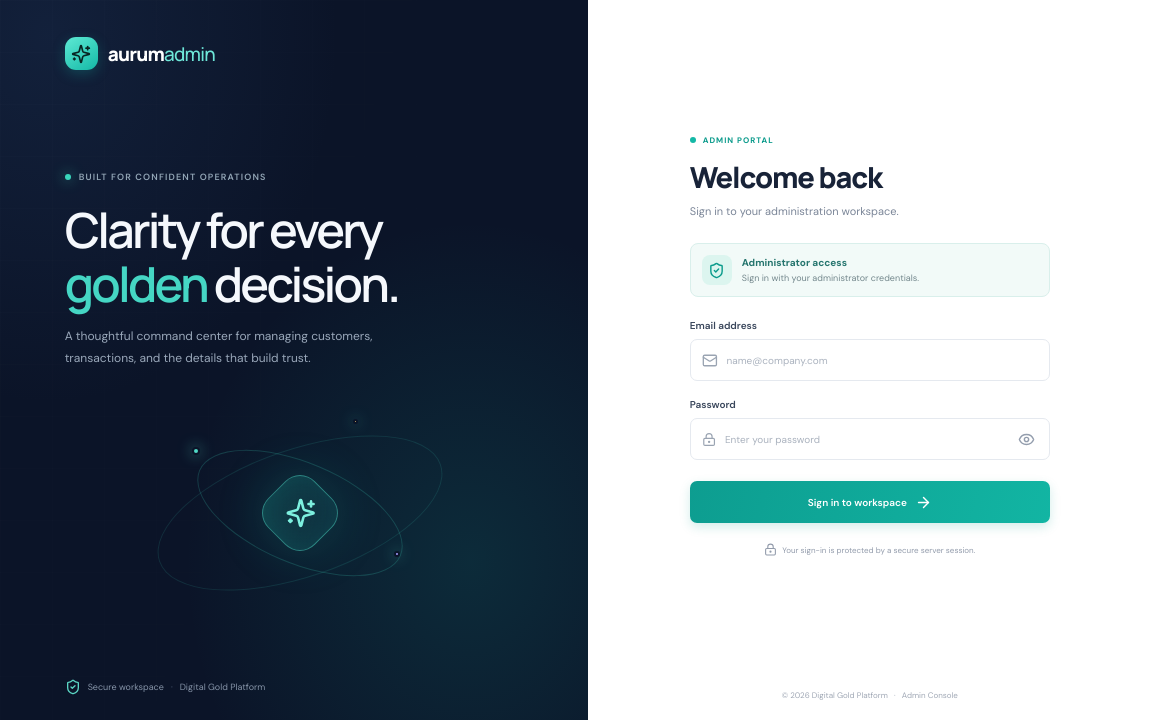
admin authentication flow › rejects passwords that do not meet the requirements before submitting
Expected: the heading "Welcome back" is shown, 690,157 -> 882,197
Type "admin@digitalgold.demo" into the field labelled "Email address".
click(882, 360); type("admin@digitalgold.demo")  # box 726,340 -> 1038,380
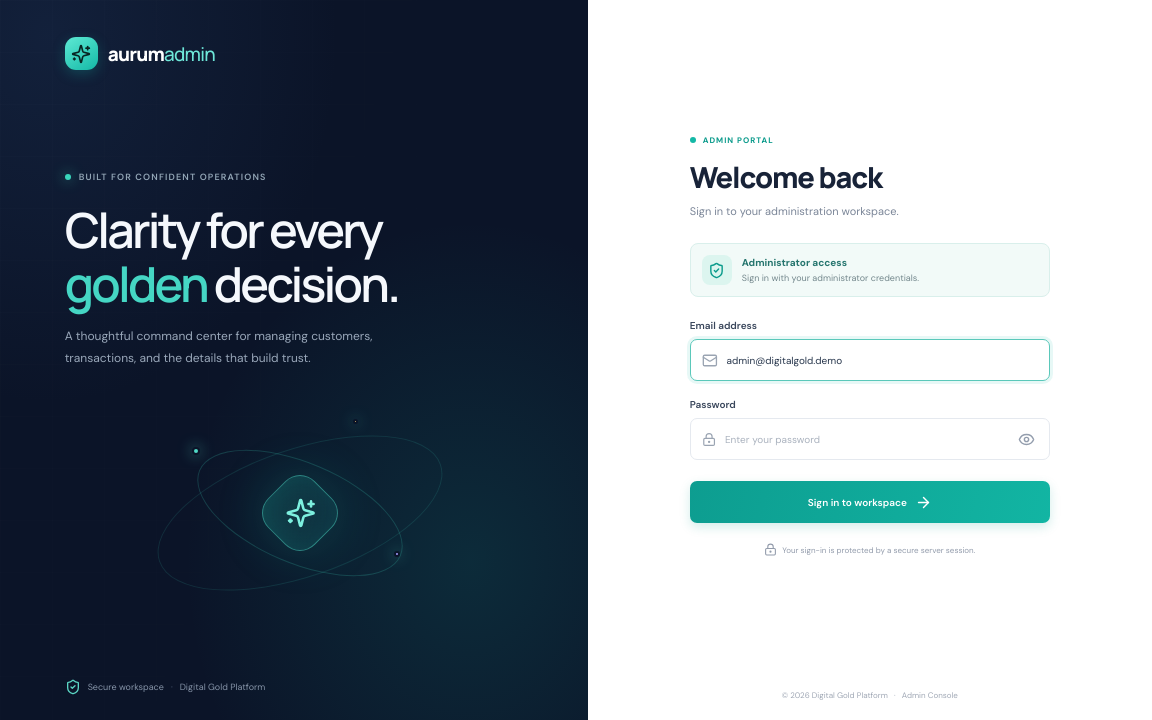
Type "weak" into the password field labelled "Password".
click(865, 439); type("weak")  # box 725,419 -> 1006,459
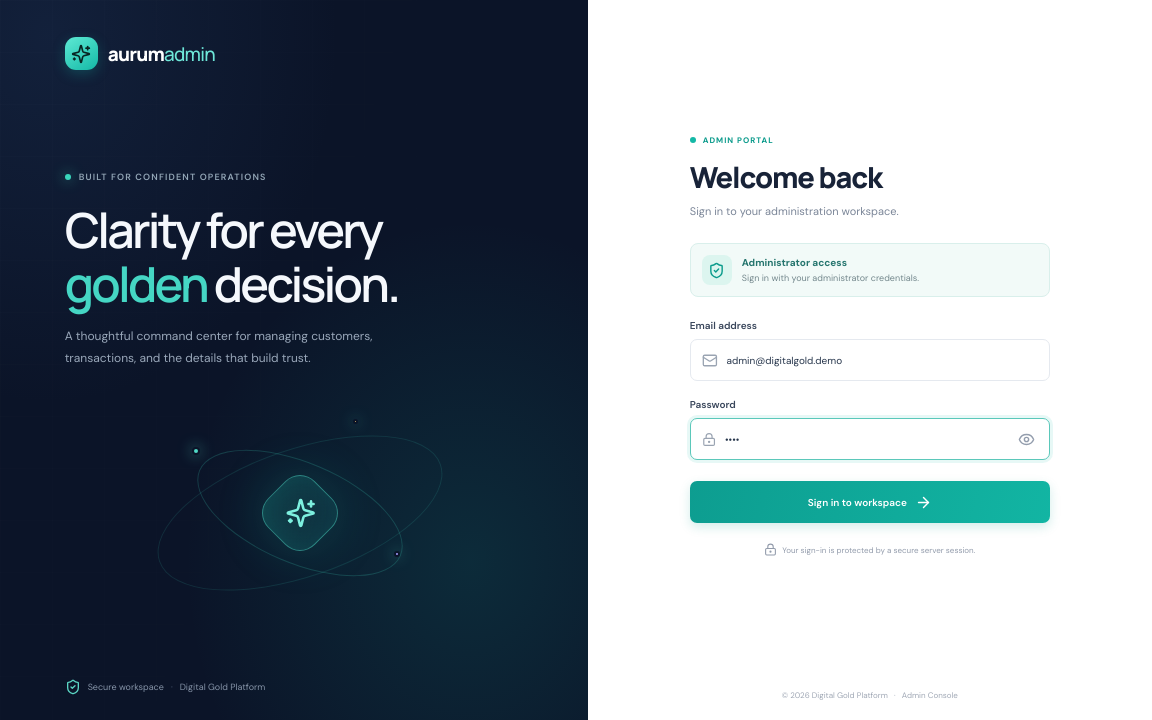
Click the button "Sign in to workspace".
click(870, 502)  # box 690,481 -> 1050,523
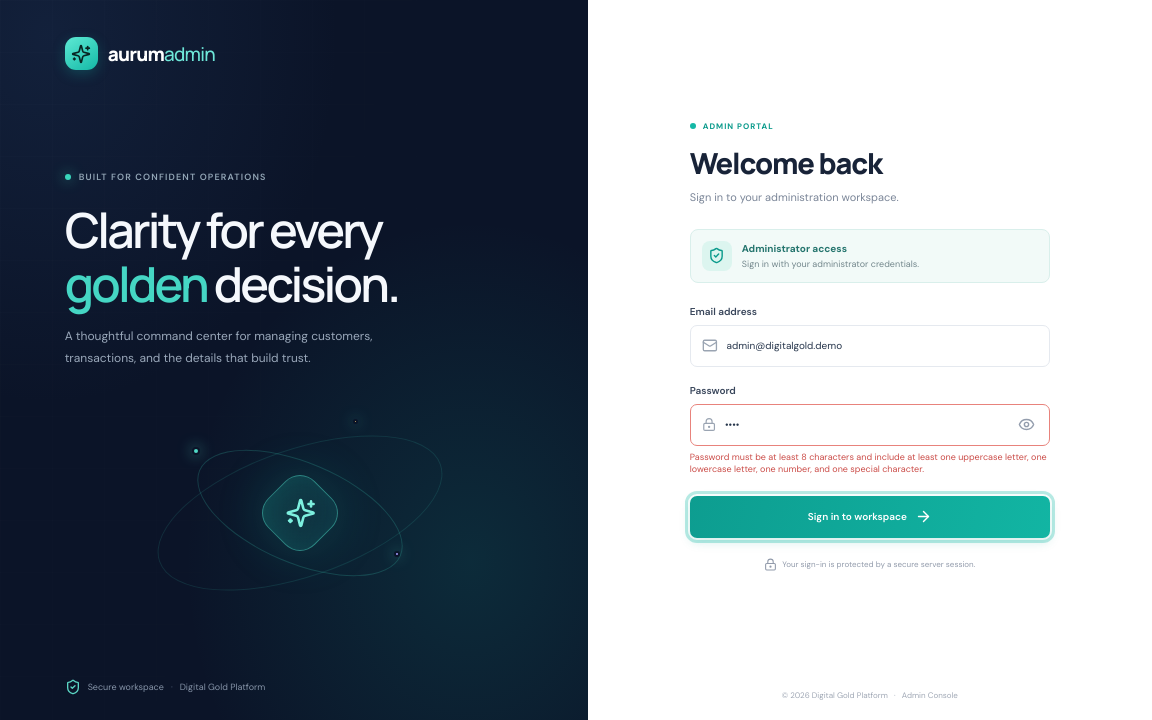
Now the text "at least 8 characters" is shown, box 690,450 -> 1047,474
